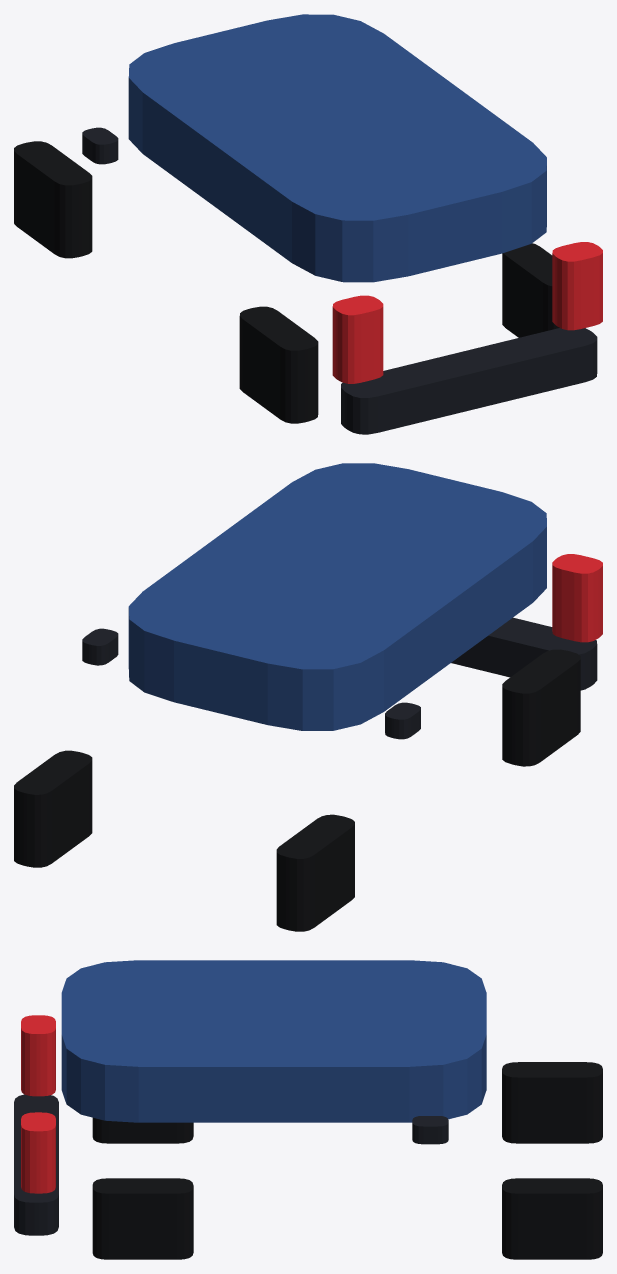
Rendered from car_parts_estate.glb.
The picture shows the model from 3 angles, top to bottom: view 1: azimuth 30°, elevation 25°; view 2: azimuth 150°, elevation 25°; view 3: azimuth 270°, elevation 25°; orthographic projection. The views are drawn at different scales.
Size of the model in its own units: 2.44 by 1.42 by 4.2.
